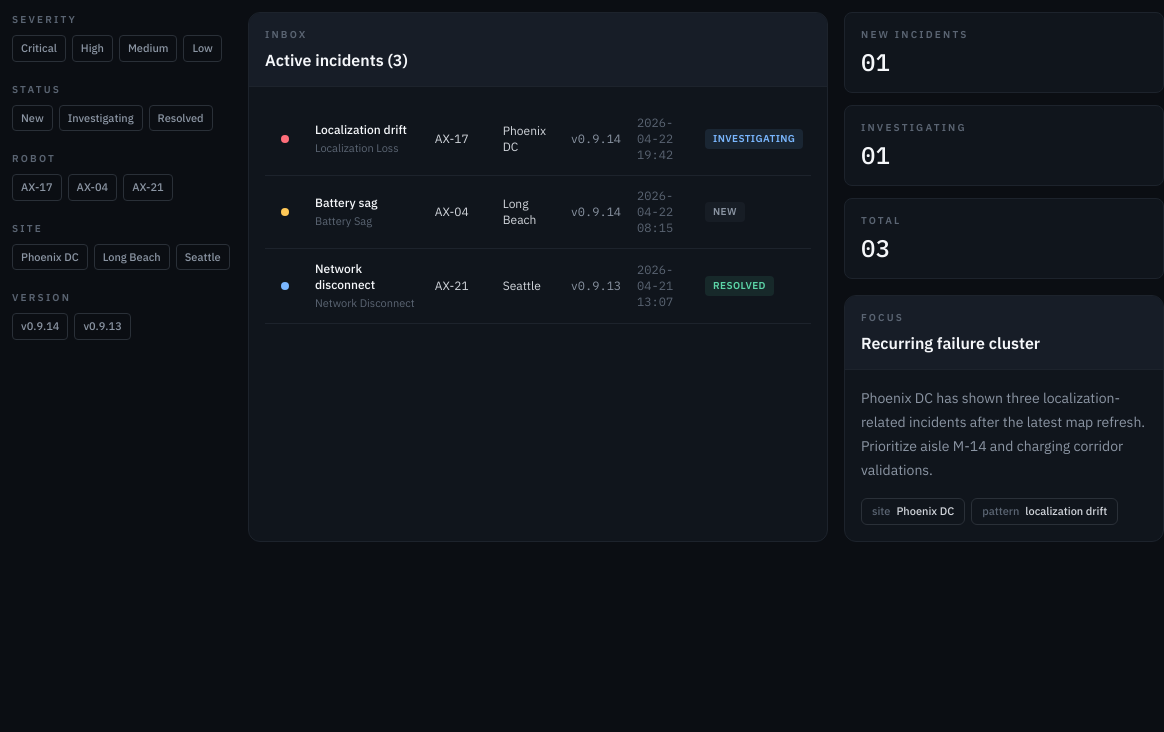
Test: InboxBody › shows an empty state when filters match no incidents
This screenshot has width=1164, height=732.
What coordinates should you click on to do the following:
click the button "Low"
I would click on:
 (203, 48)
Its box is [184,35,222,62].
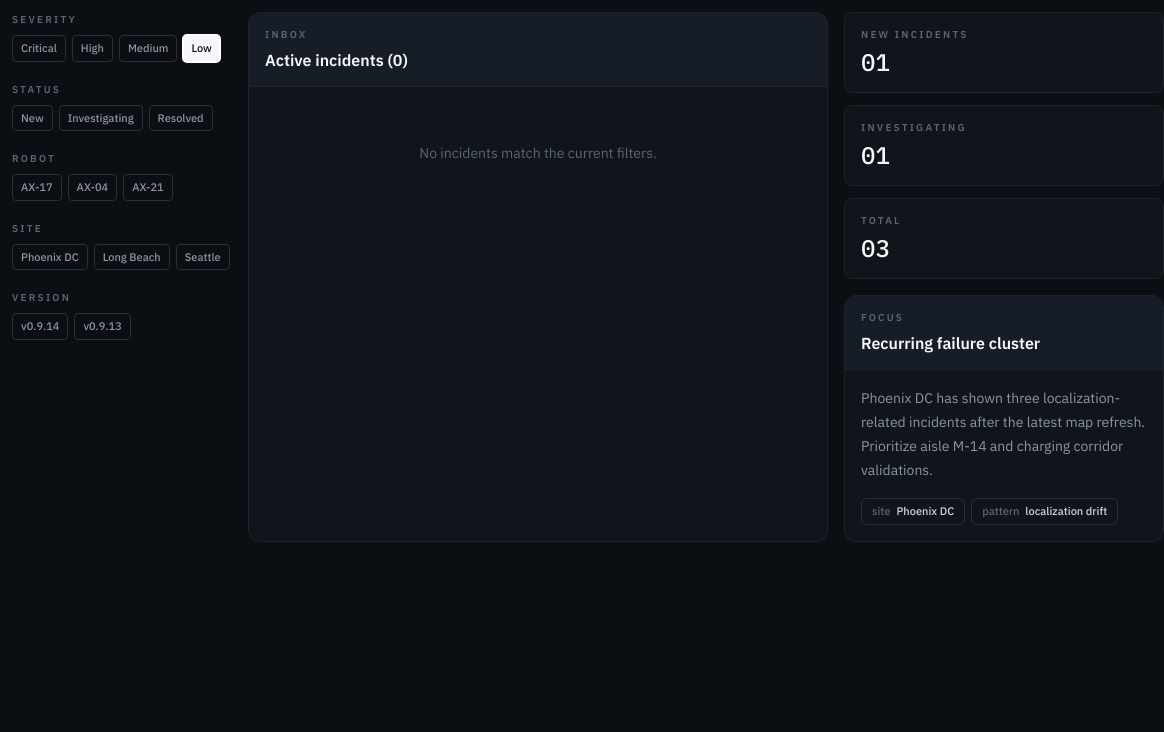
Check: the text "No incidents match the current filters." is shown, box [419,144,657,162]
